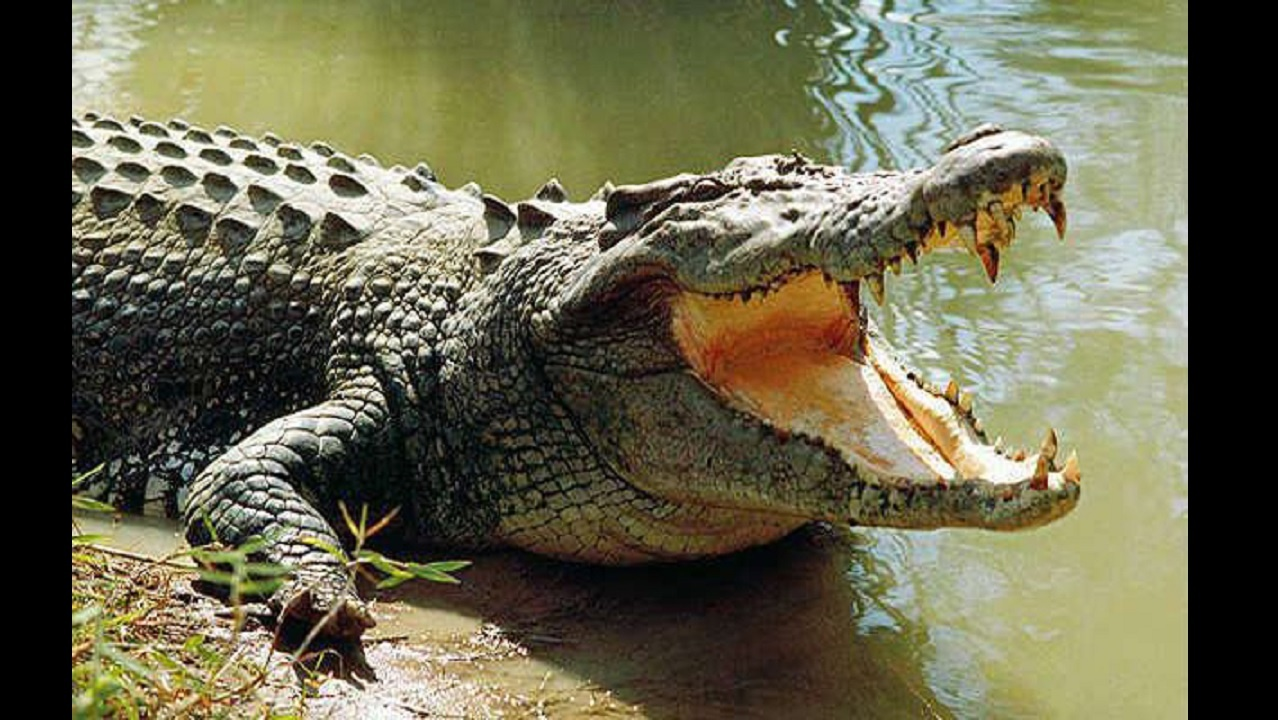crocodile: (73, 104, 1086, 642)
